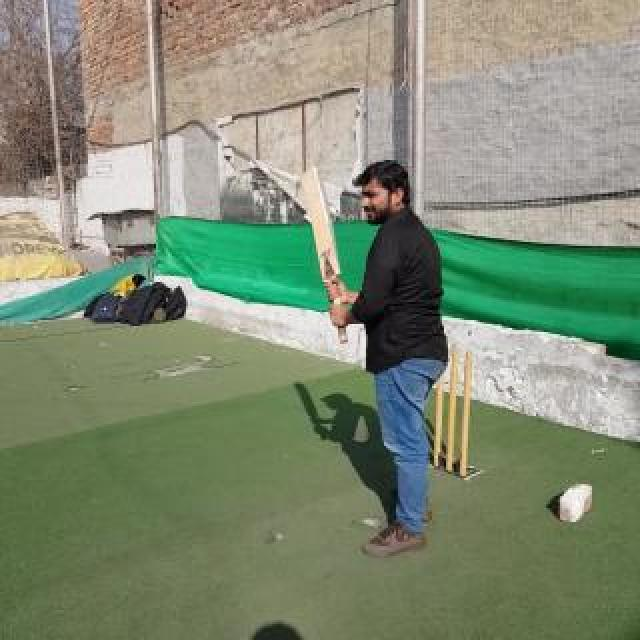bat: (302, 167, 348, 343)
